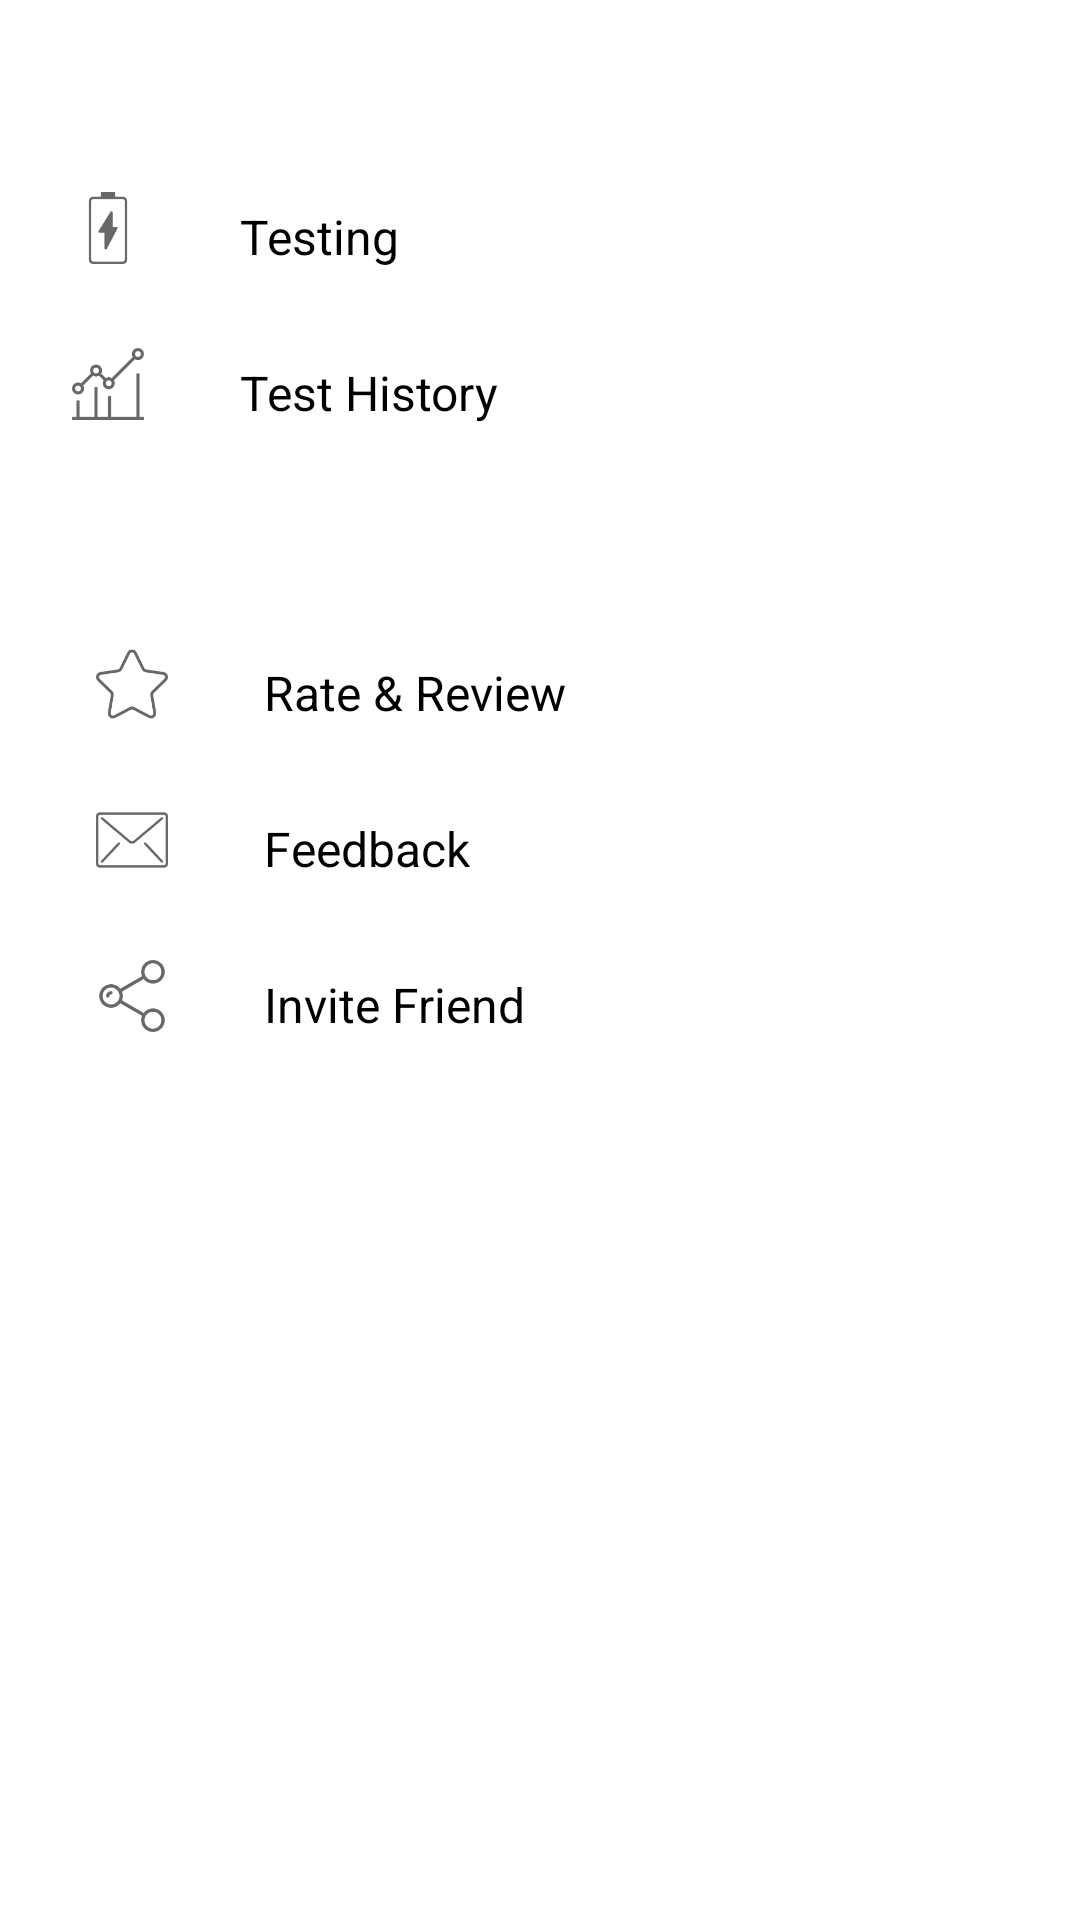

Named icons in this screenshot (1080w x 1920h) and their bounding boxes, [left=x1, top=y1, right=x2, bottom=y2]:
battery: [left=89, top=192, right=127, bottom=264]
graph: [left=72, top=348, right=144, bottom=420]
mail: [left=96, top=812, right=168, bottom=868]
share: [left=99, top=960, right=165, bottom=1032]
